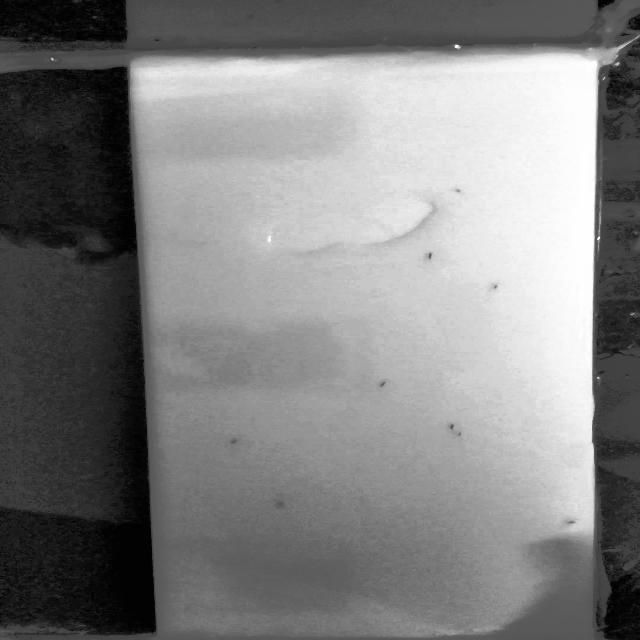shrimp: (274, 495, 292, 509), (444, 420, 459, 431), (453, 185, 469, 195), (226, 438, 245, 446), (486, 283, 502, 292), (376, 379, 391, 388), (425, 252, 438, 262), (563, 519, 578, 527), (451, 431, 466, 439)
